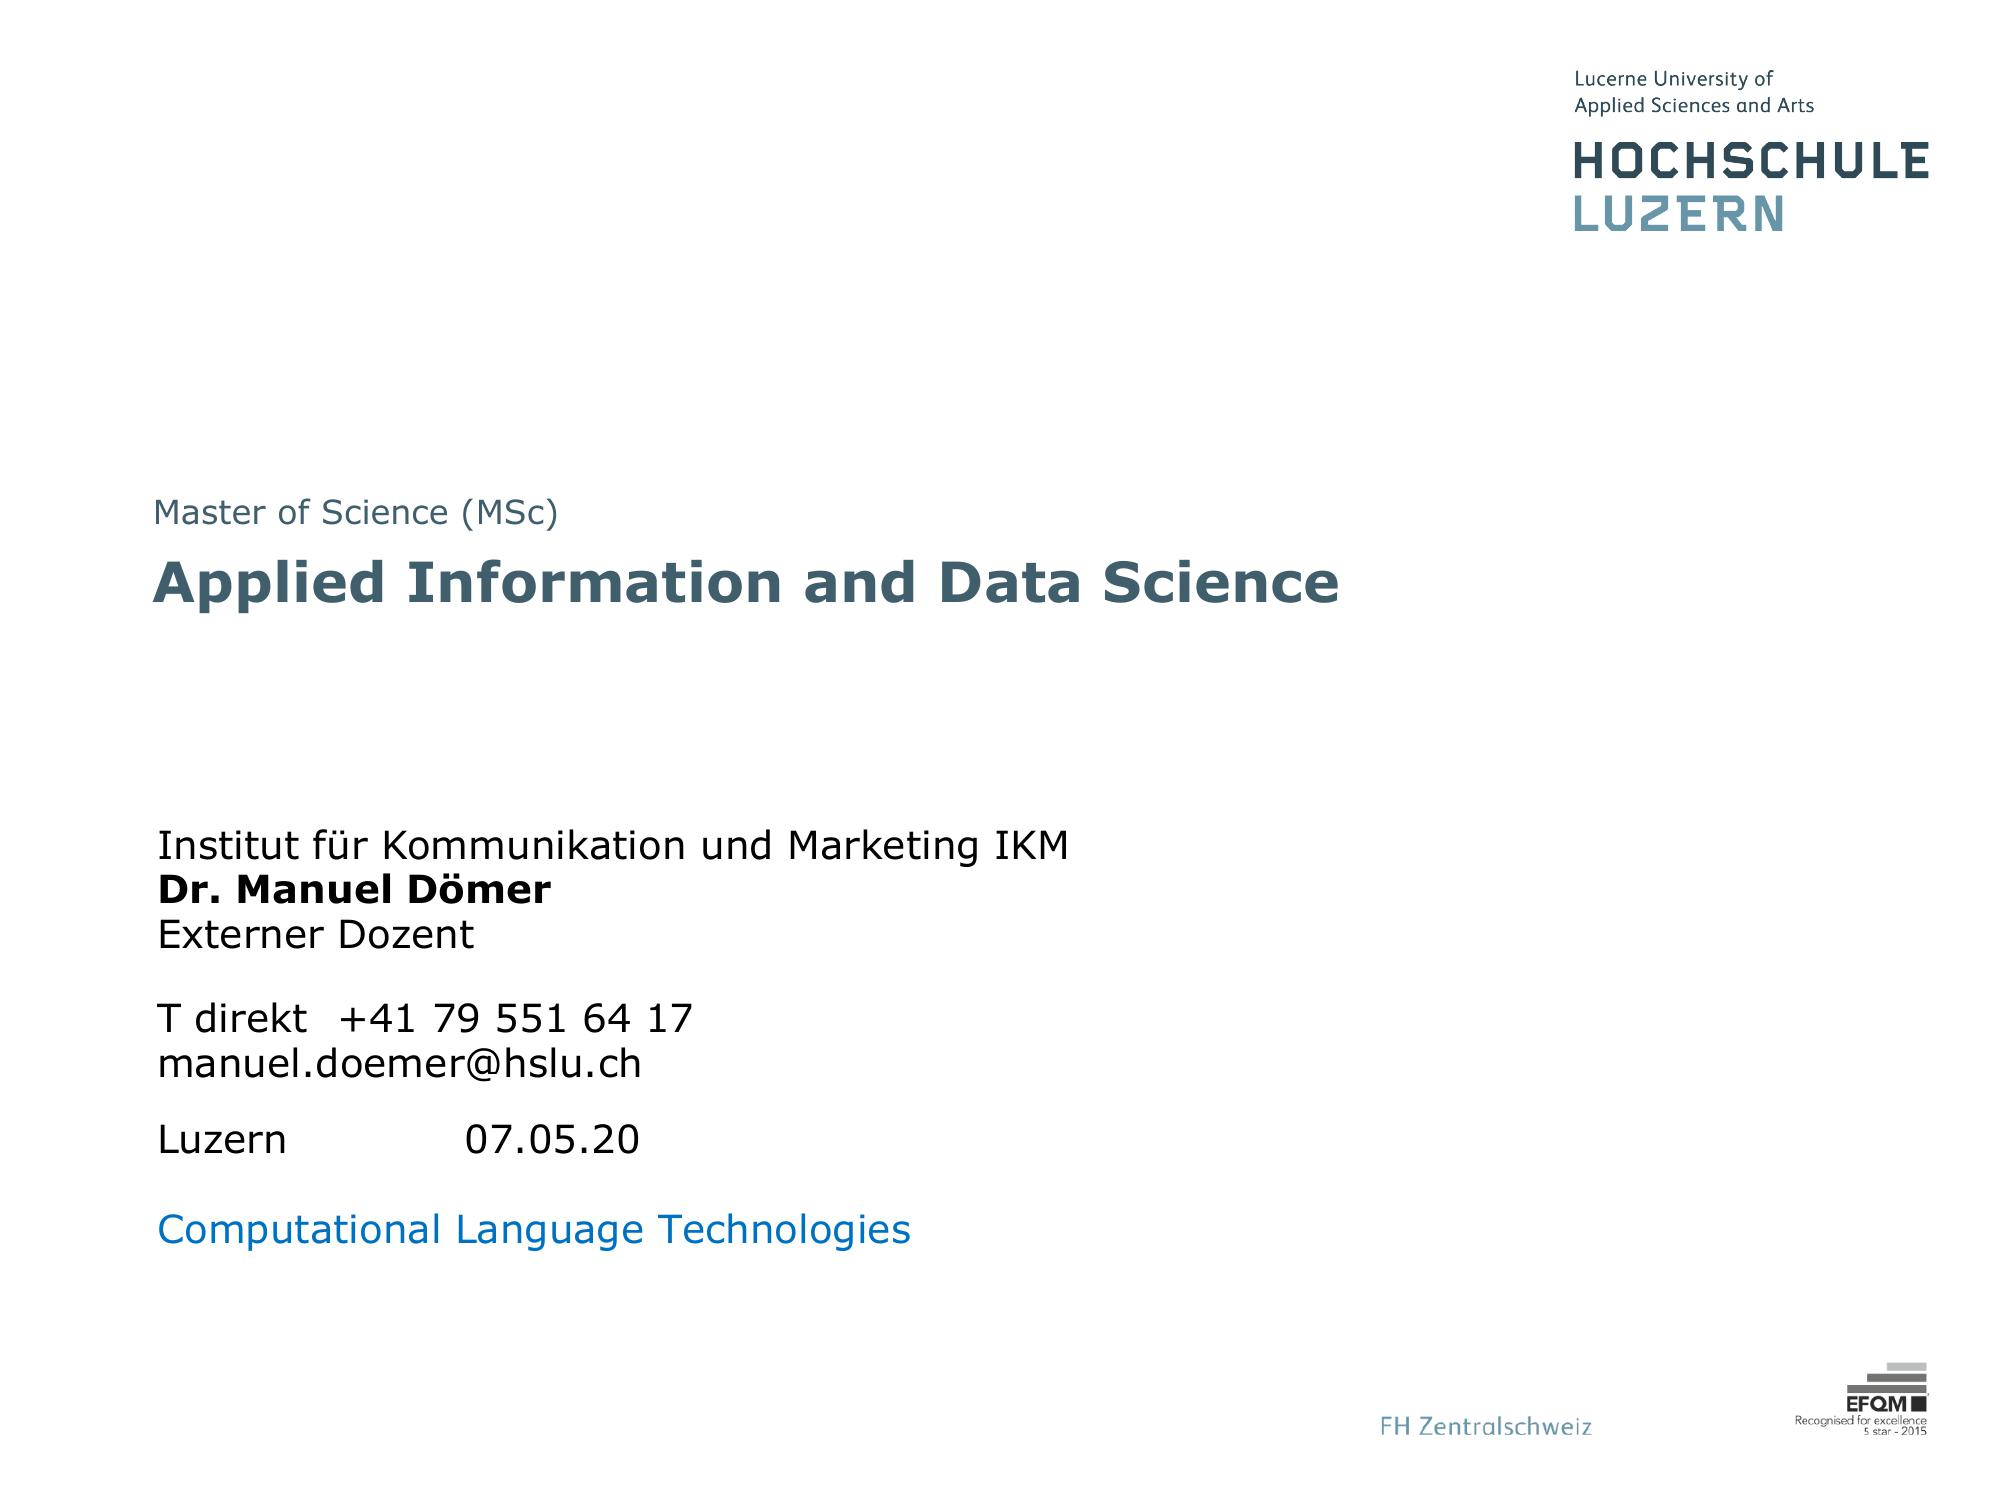Title: (107, 548, 1373, 619)
